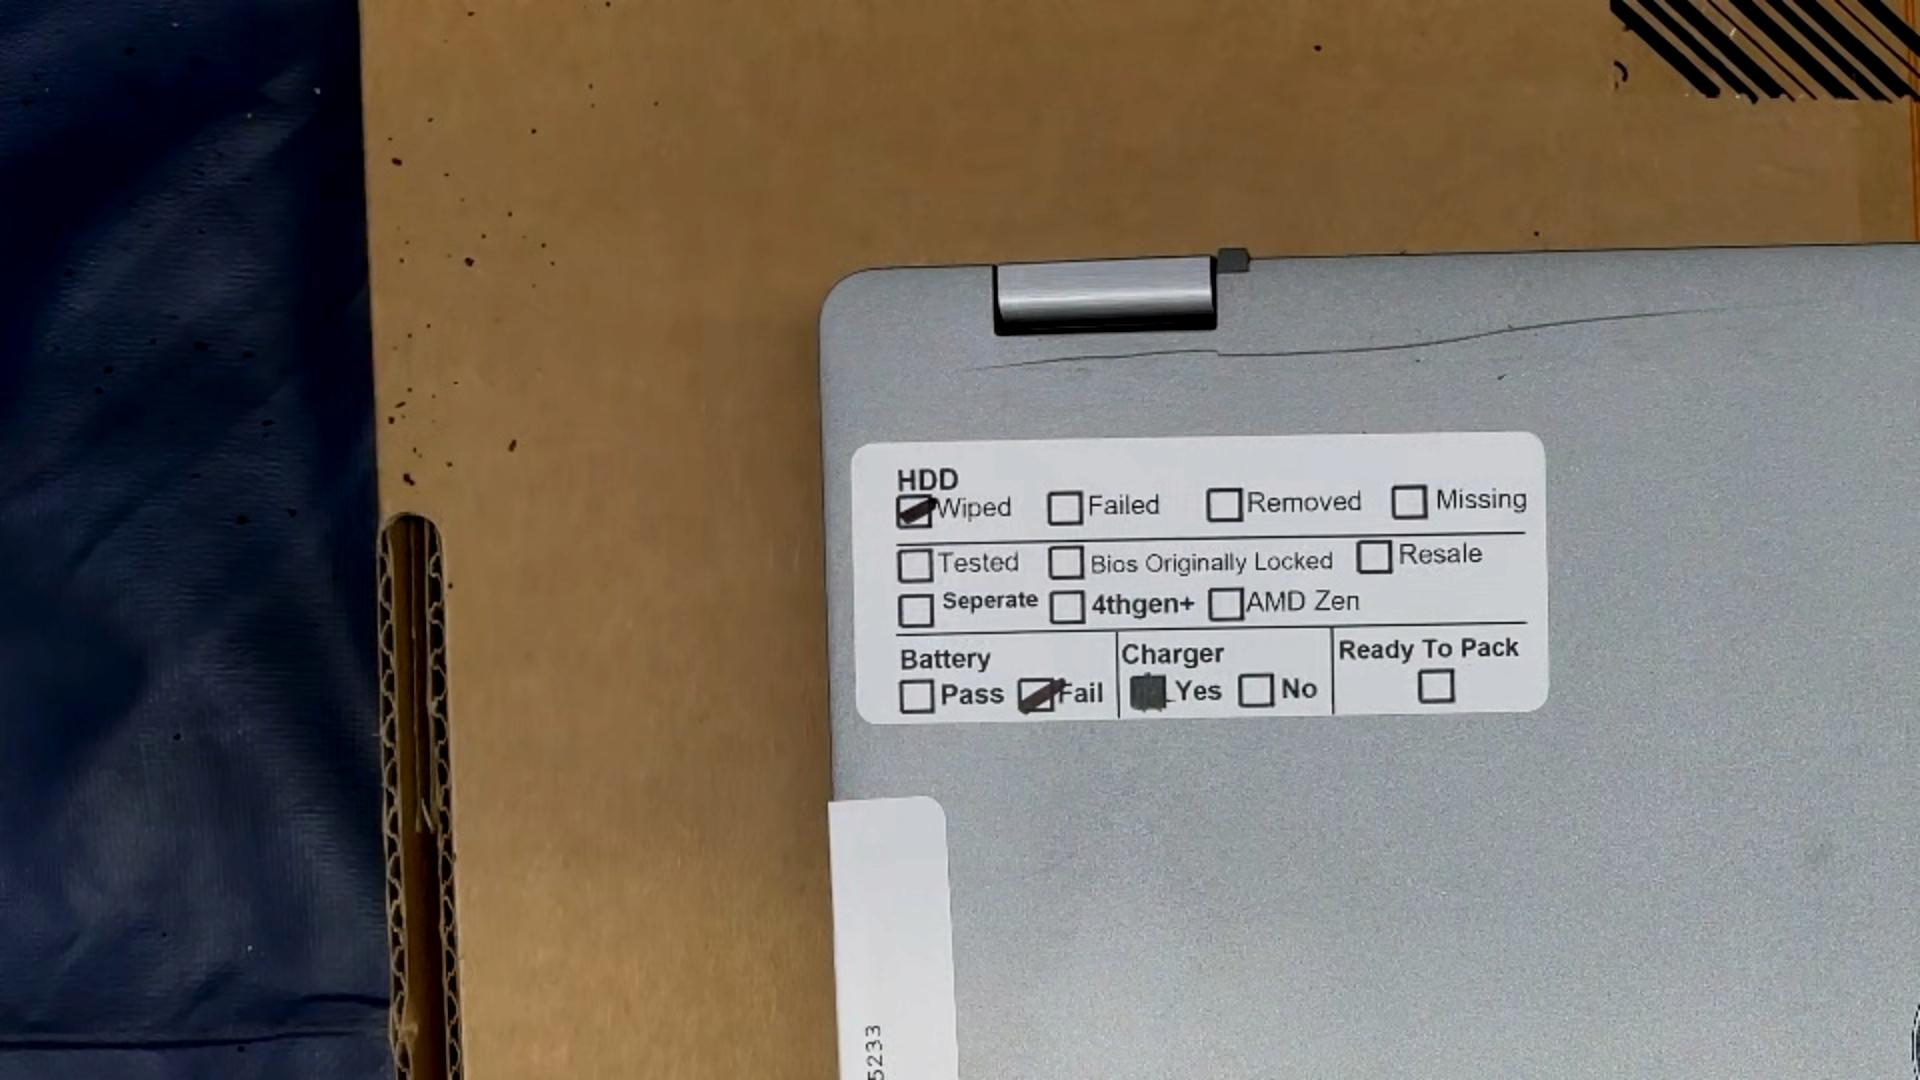scratches: (959, 303, 1731, 373), (1497, 372, 1510, 381)
